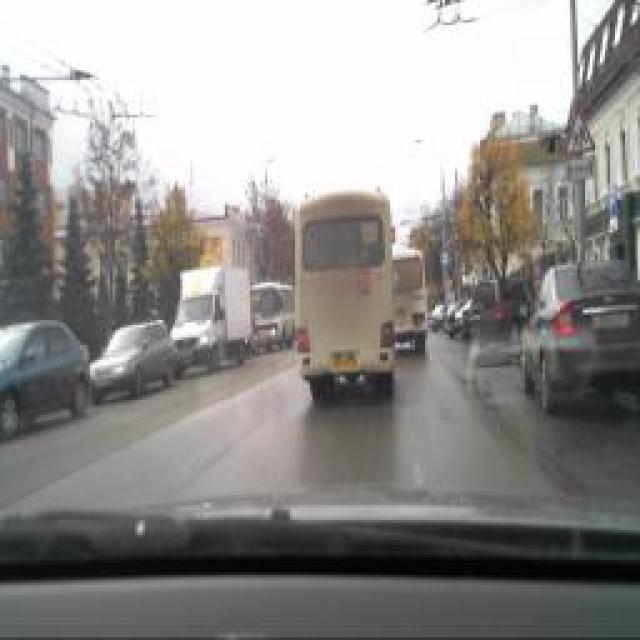sign: (563, 106, 595, 154)
